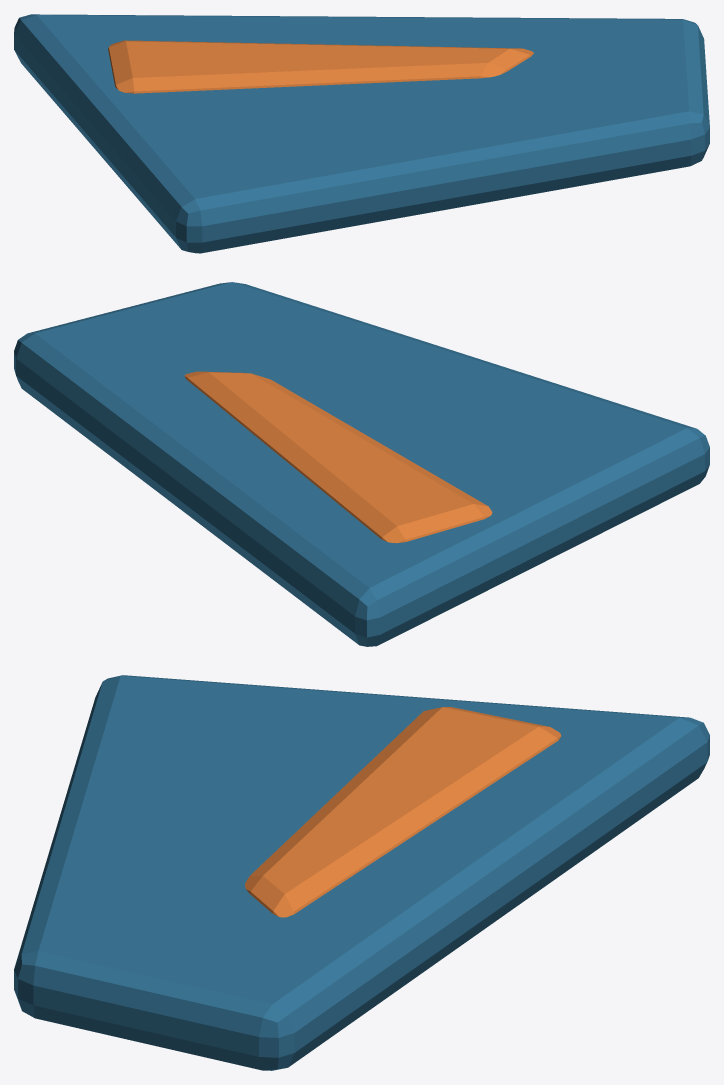
File: Canard.fbx
The picture shows the model from 3 angles, top to bottom: view 1: azimuth 30°, elevation 25°; view 2: azimuth 150°, elevation 25°; view 3: azimuth 270°, elevation 25°; orthographic projection. The views are drawn at different scales.
Parts seen in each view (by area): view 1: Canard_RENDER, CanardAccent_RENDER; view 2: Canard_RENDER, CanardAccent_RENDER; view 3: Canard_RENDER, CanardAccent_RENDER.
Boxes of the visible parts, box(x1,y1,x2,y2) form: Canard_RENDER: box(14, 14, 709, 253); CanardAccent_RENDER: box(108, 40, 533, 93); Canard_RENDER: box(14, 282, 709, 646); CanardAccent_RENDER: box(184, 371, 492, 543); Canard_RENDER: box(14, 675, 709, 1070); CanardAccent_RENDER: box(245, 707, 561, 917).
Bounding box in the file's own units: 1.13 × 0.115 × 0.951.
